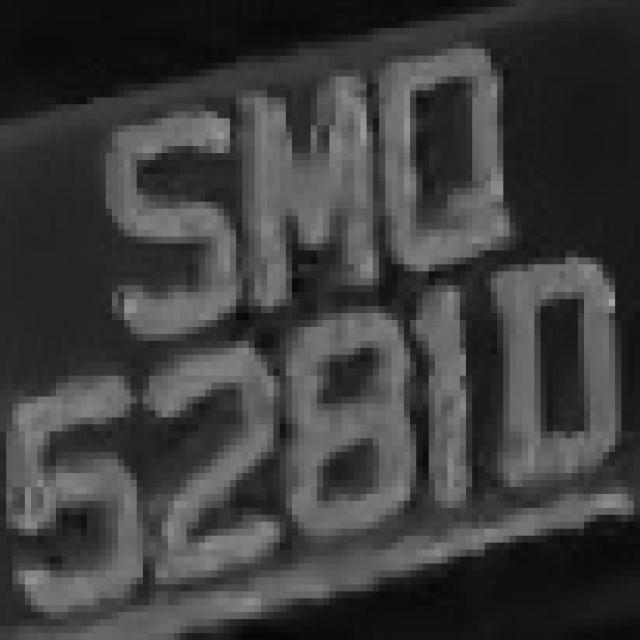1: (410, 285, 479, 550)
2: (137, 341, 298, 591)
5: (12, 362, 162, 633)
8: (255, 299, 422, 550)
D: (484, 257, 628, 494)
M: (218, 63, 392, 299)
Q: (373, 42, 528, 292)
S: (81, 111, 242, 348)
